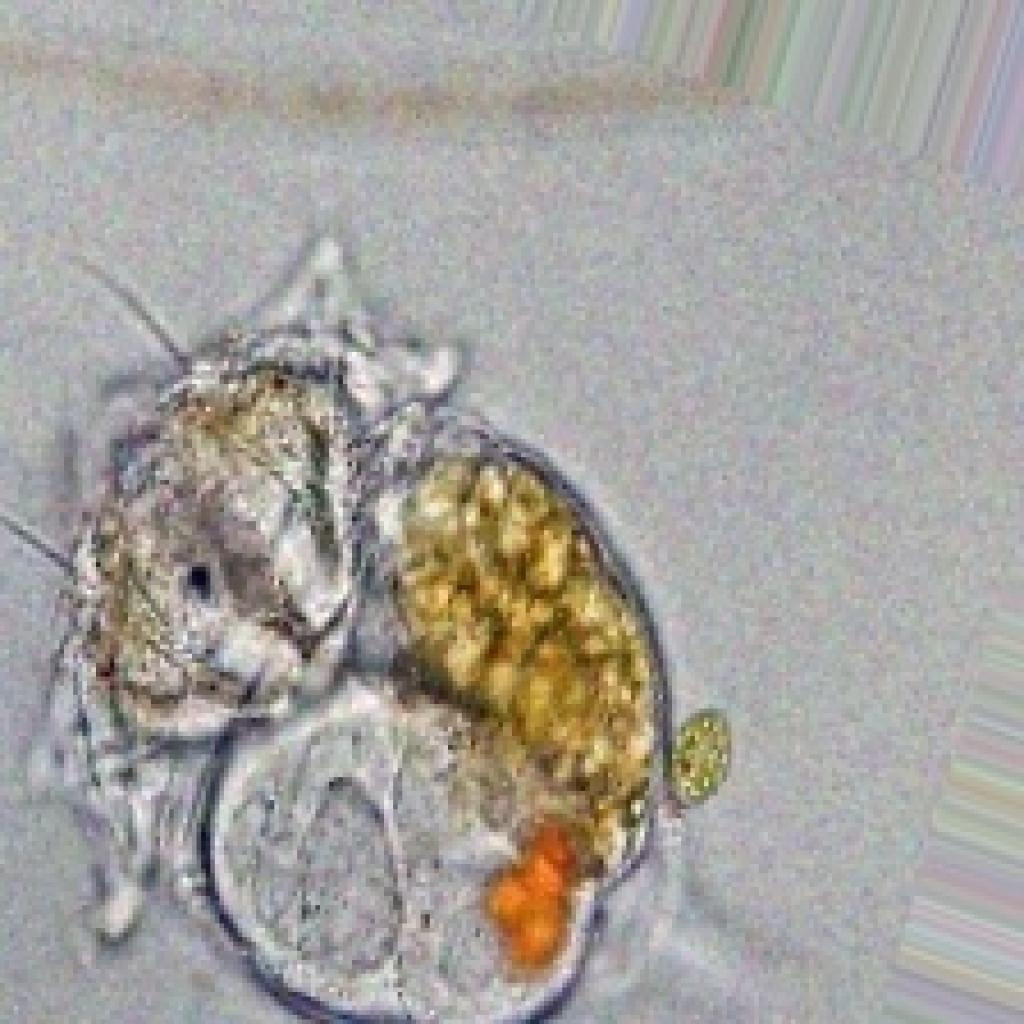Rotifer: (0, 219, 731, 1019)
